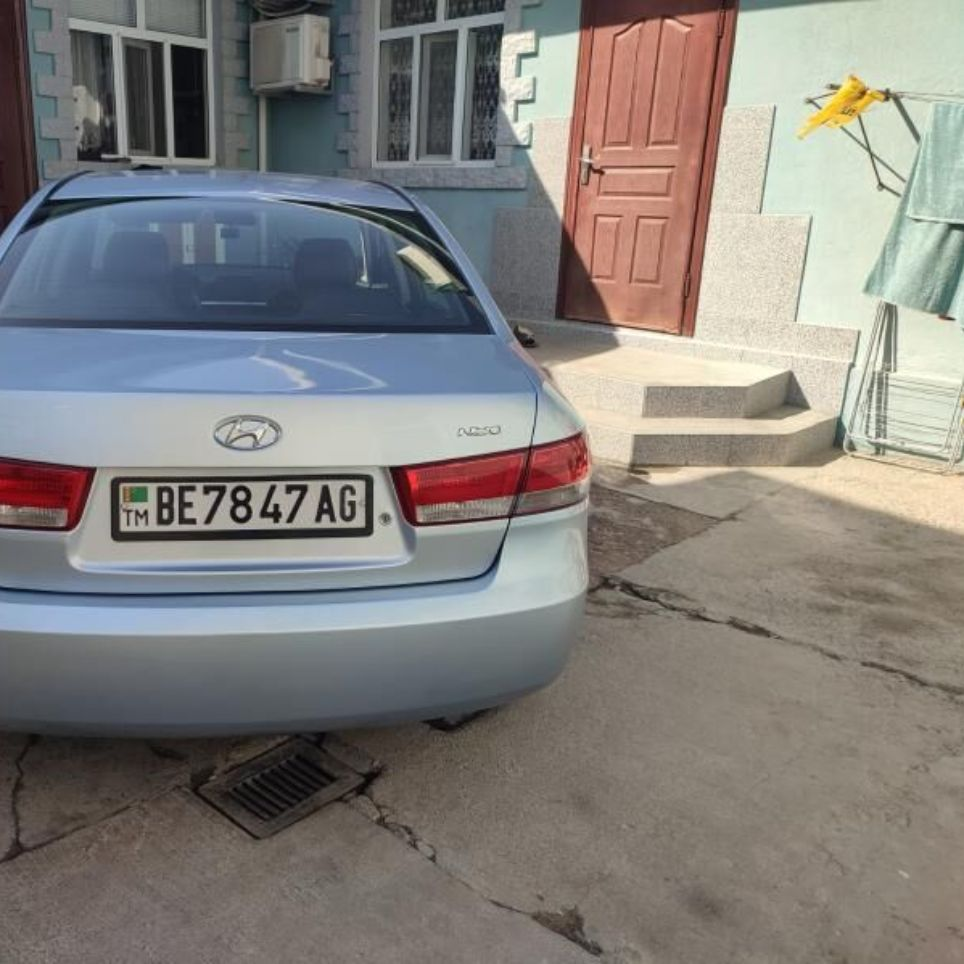license plate: (115, 475, 372, 534)
truck: (0, 167, 597, 740)
